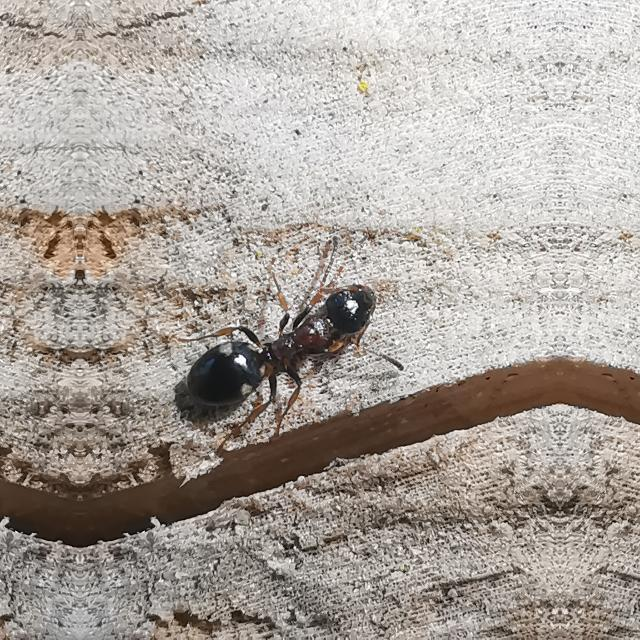Dolichoderus: (164, 250, 396, 442), (168, 595, 222, 639)
